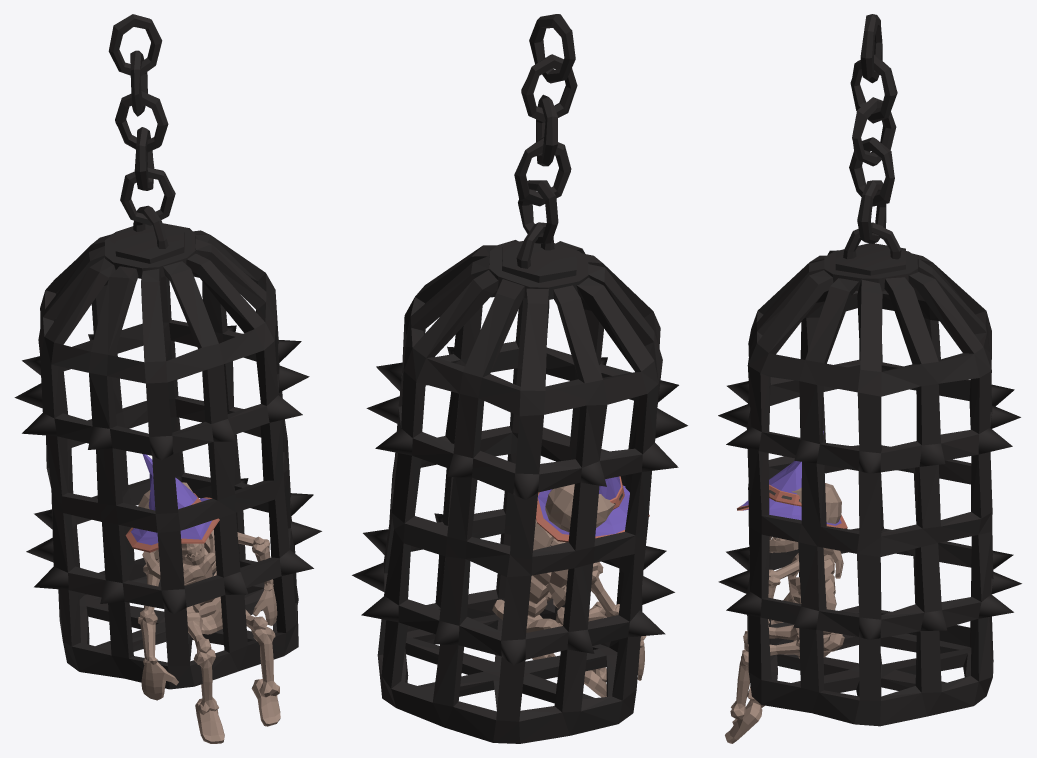
File: mageDungeonCage.fbx
3 views of the same model, side by side, from view 1: azimuth 30°, elevation 25°; view 2: azimuth 150°, elevation 25°; view 3: azimuth 270°, elevation 25° (orthographic). The views are drawn at different scales.
Parts seen in each view (by area): view 1: mageDungeonCage; view 2: mageDungeonCage; view 3: mageDungeonCage.
Part boxes in pixels (left/top/right/bottom): mageDungeonCage: left=14, top=14, right=321, bottom=743; mageDungeonCage: left=352, top=14, right=687, bottom=743; mageDungeonCage: left=718, top=14, right=1021, bottom=743.
Size of the model in its own units: 2.35 by 5.26 by 2.07.
2 materials, 2 textured.
